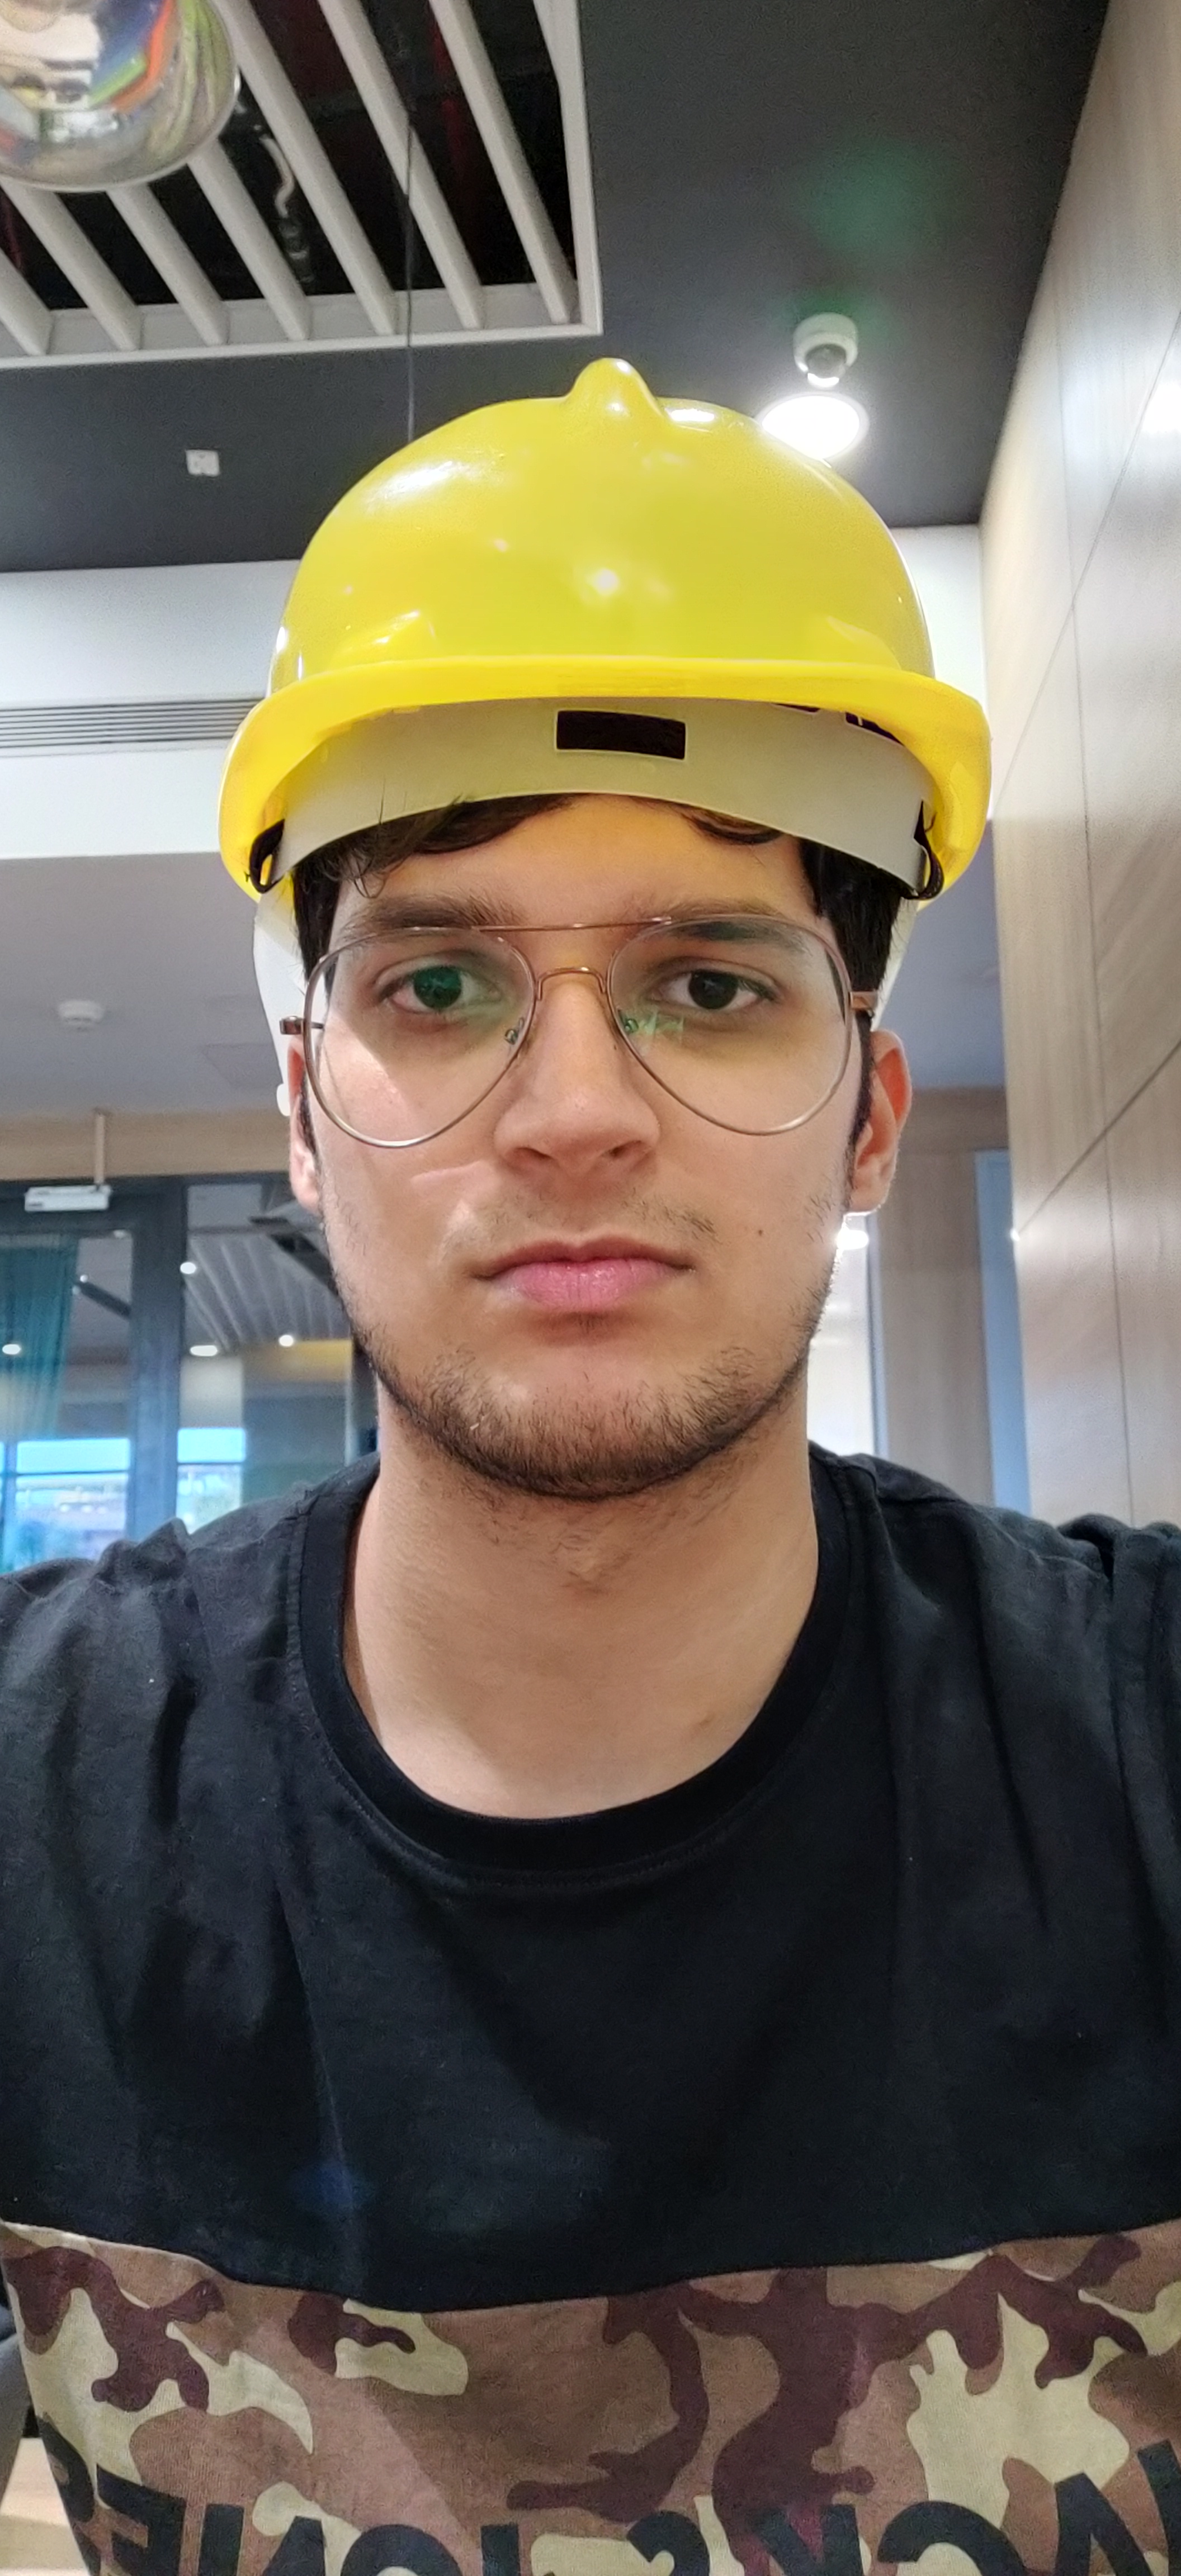Person_wearing_helmet: (177, 333, 996, 1180)
